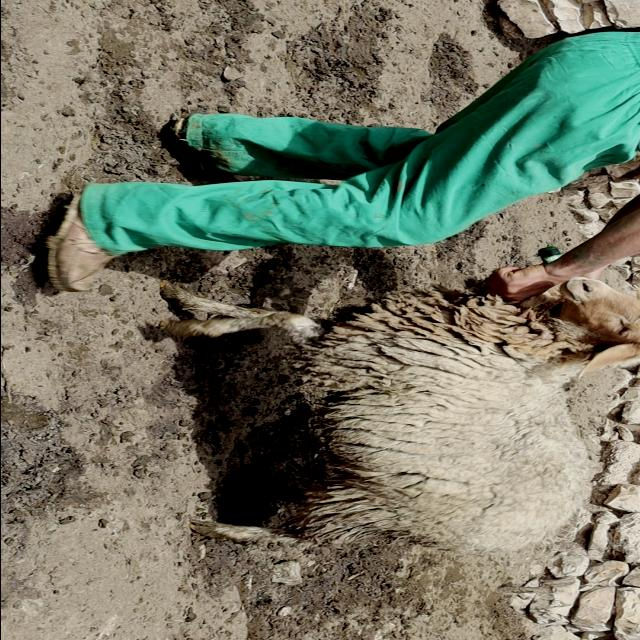Score_4: (160, 276, 640, 555)
